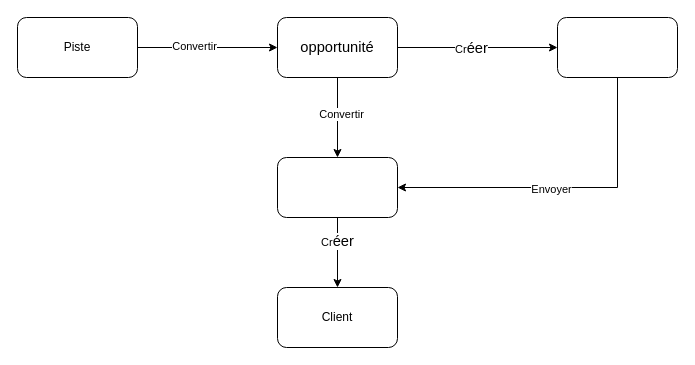
The diagram is 695 pixels wide and 365 high, and some of its shapes have lost their labels. Here are the shapes that lost their labels. From the top down, the box of each, then its label:
(556, 16, 678, 78): Devis
(276, 156, 398, 218): Leads
